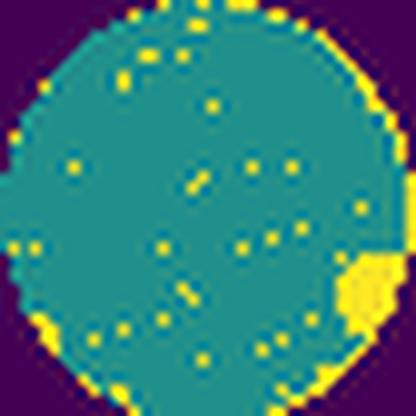Edge-Loc: (328, 247, 408, 346)
